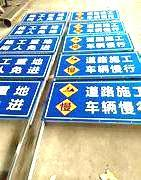sign: (51, 83, 141, 119), (58, 54, 141, 78), (64, 34, 134, 52), (1, 81, 33, 116), (1, 55, 48, 76), (2, 37, 58, 51), (67, 22, 125, 33), (72, 10, 119, 19), (11, 25, 62, 33), (23, 13, 66, 21)
